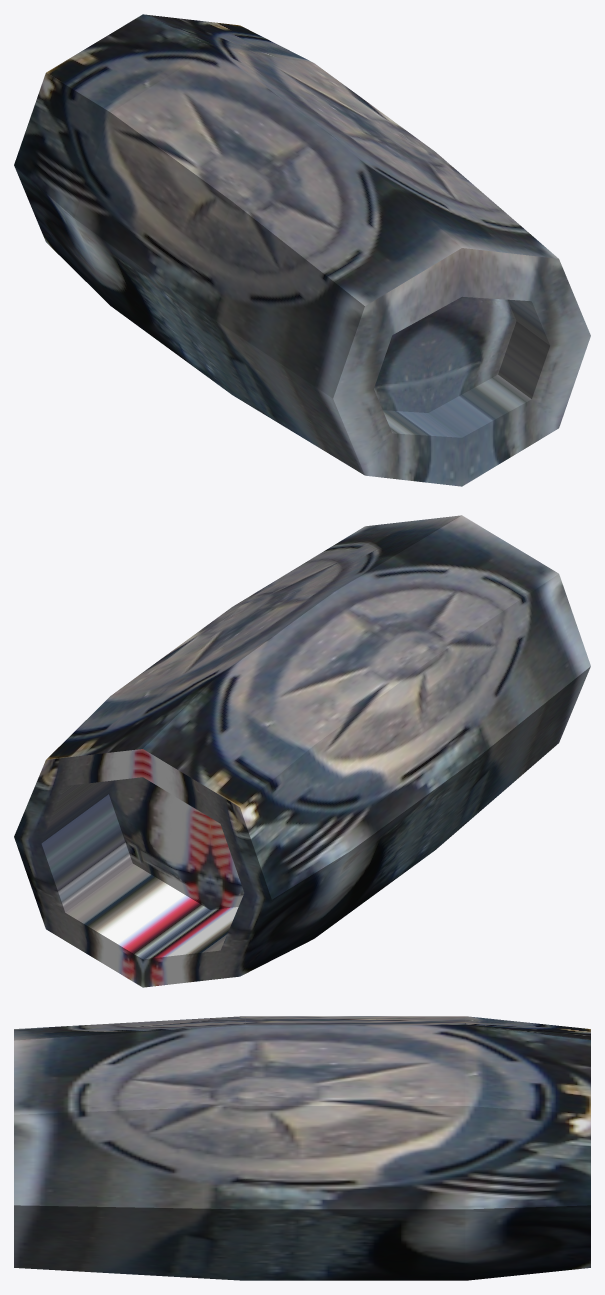
3 views of the same model, one above another, from view 1: azimuth 30°, elevation 25°; view 2: azimuth 150°, elevation 25°; view 3: azimuth 270°, elevation 25° (orthographic). The views are drawn at different scales.
Parts seen in each view (by area): view 1: Engine-1.001_Cube.015; view 2: Engine-1.001_Cube.015; view 3: Engine-1.001_Cube.015.
Boxes of the visible parts, bbox=[...] form: Engine-1.001_Cube.015: bbox=[14, 14, 590, 486]; Engine-1.001_Cube.015: bbox=[14, 515, 590, 987]; Engine-1.001_Cube.015: bbox=[14, 1016, 590, 1280].
Size of the model in its own units: 4.75 by 4.48 by 9.5.
